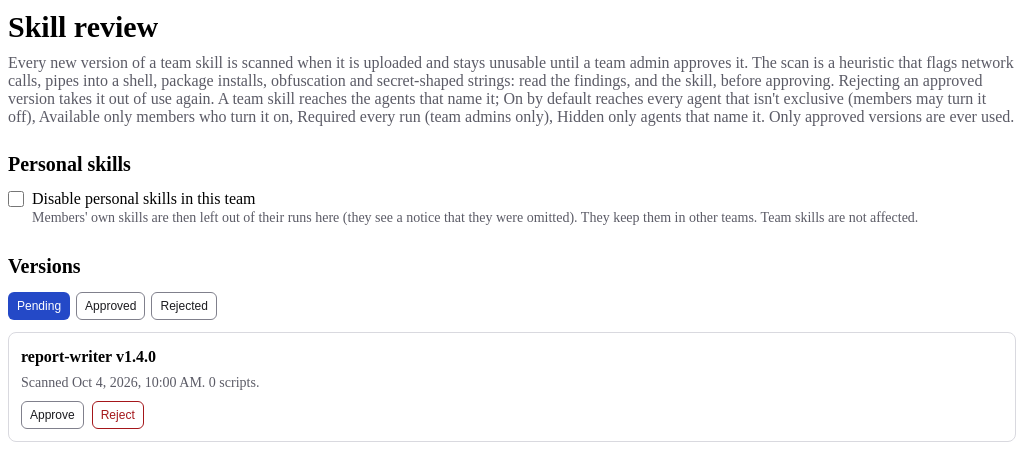
Test: Skill review (KOBE-80) › lists findings and approves a clean version
Click the button "Approve": click(52, 414) [21,400,84,428]
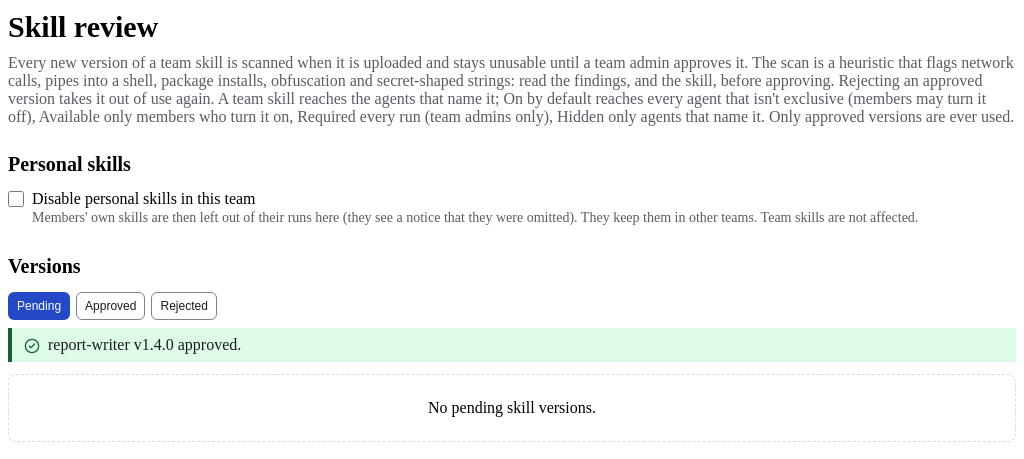
Now the text "report-writer v1.4.0 approved." is shown, box [48,336,241,352]
Now the text "No pending skill versions." is shown, box [428,398,596,416]
